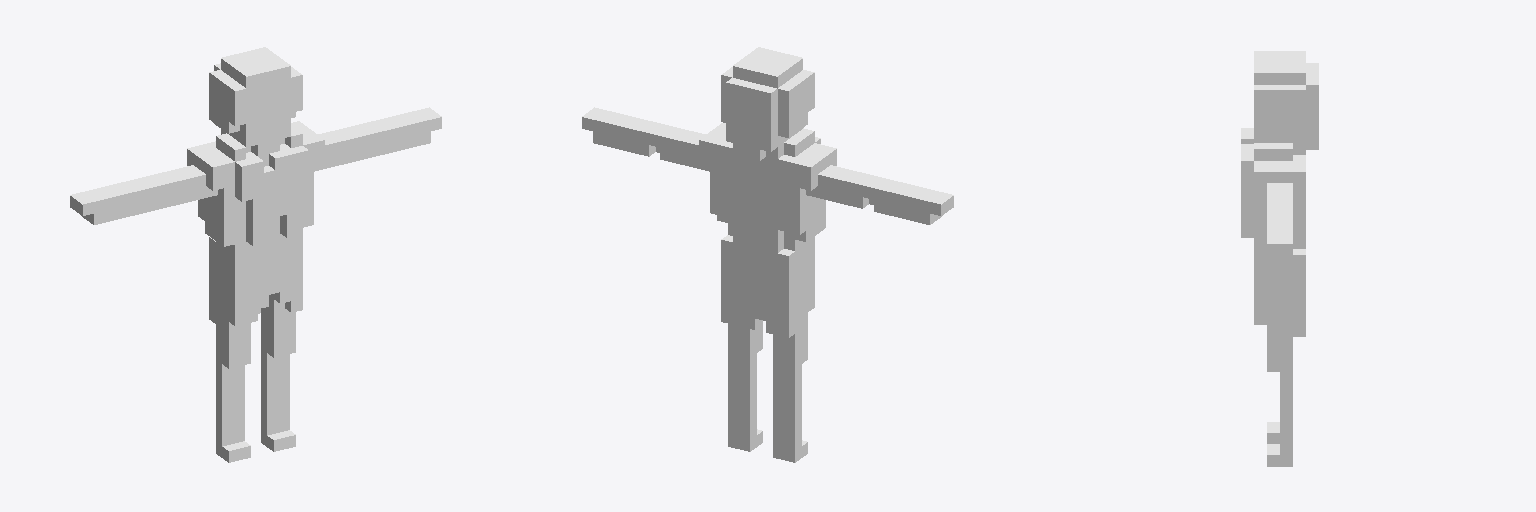
Rendered from Character6.obj.
3 renders of one model, left to right at view 1: azimuth 30°, elevation 25°; view 2: azimuth 150°, elevation 25°; view 3: azimuth 270°, elevation 25°, orthographic.
Parts seen in each view (by area): view 1: Character05_Mesh.005; view 2: Character05_Mesh.005; view 3: Character05_Mesh.005.
Boxes of the visible parts, box(x1,y1,x2,y2) form: Character05_Mesh.005: box(70, 47, 441, 462); Character05_Mesh.005: box(582, 47, 953, 462); Character05_Mesh.005: box(1241, 51, 1318, 466).
Size of the model in its own units: 12.15 by 12.53 by 2.28.